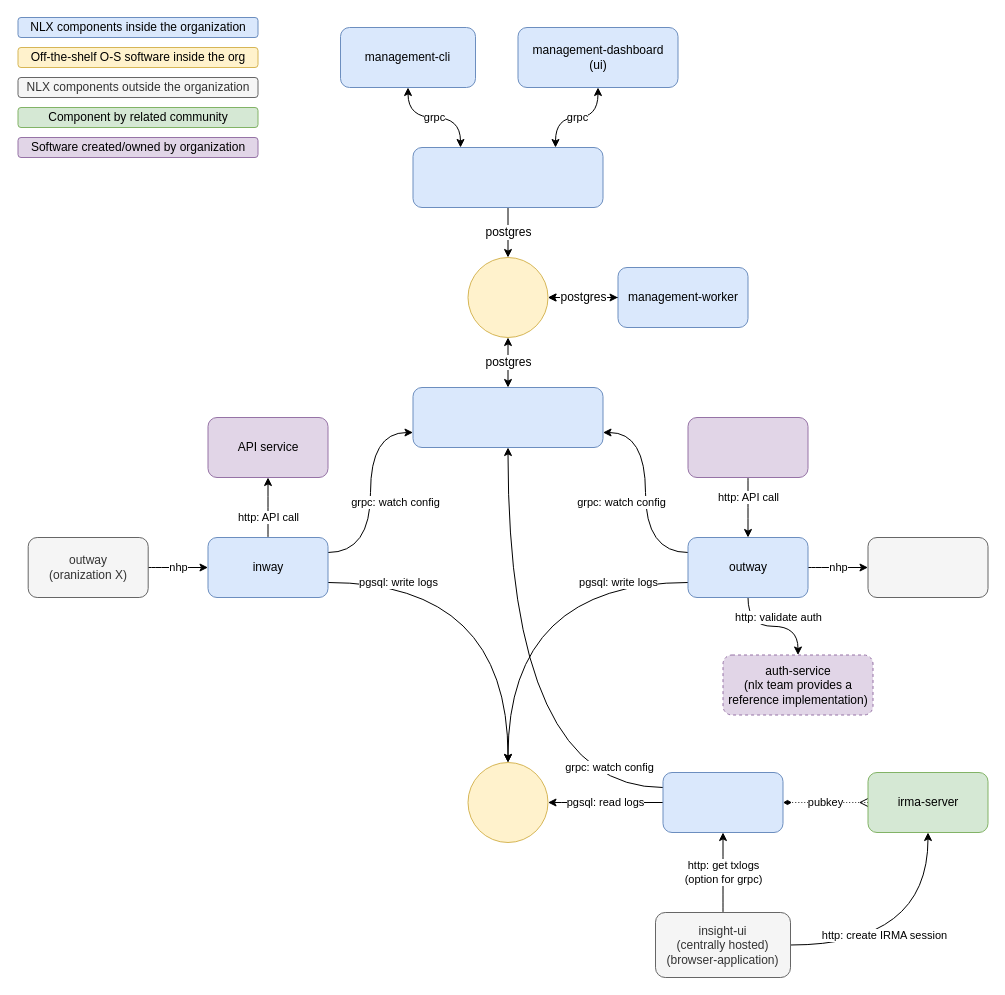
This 1005x995 diagram has some shape labels left out. The centre of each missing label's shape, as x and y in pixels:
"application" goes at point (747, 447).
"config-api" goes at point (507, 417).
"insight-api" goes at point (722, 802).
"inway (oranization Y)" goes at point (927, 567).
"management-api" goes at point (507, 177).
"postgres (config)" goes at point (507, 297).
"postgres (txlog)" goes at point (507, 802).
